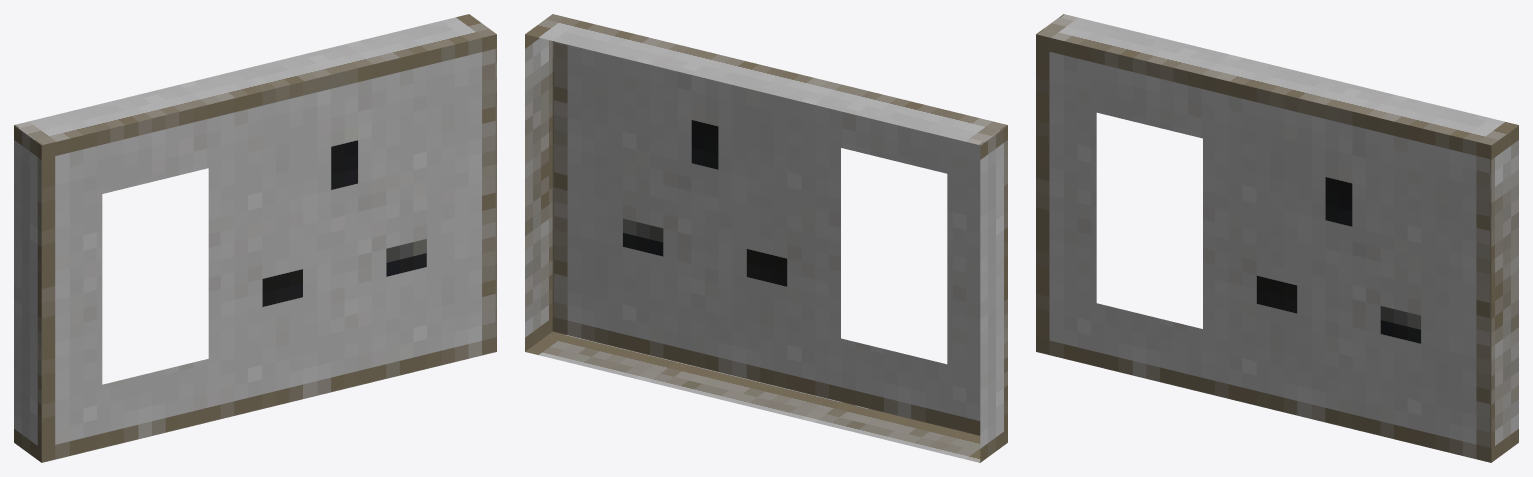
File: SwitchBoard2.glb
3 views of the same model, side by side, from view 1: azimuth 30°, elevation 25°; view 2: azimuth 150°, elevation 25°; view 3: azimuth 330°, elevation 25° (orthographic).
Parts seen in each view (by area): view 1: SwitchBoard2; view 2: SwitchBoard2; view 3: SwitchBoard2.
Boxes of the visible parts, x1=… form: SwitchBoard2: x1=14, y1=14, x2=496, y2=462; SwitchBoard2: x1=525, y1=14, x2=1007, y2=462; SwitchBoard2: x1=1036, y1=14, x2=1518, y2=462.
Size of the model in its own units: 0.15 by 0.1 by 0.0158.
Materials: 1 (1 with a texture image).
